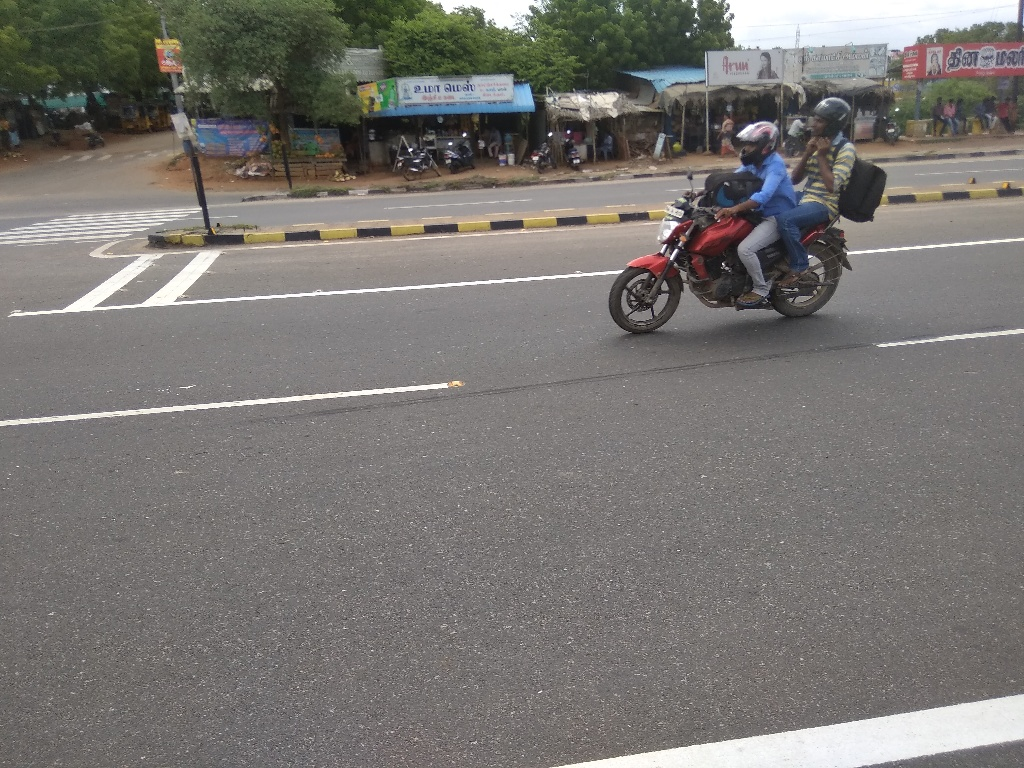biker: (595, 60, 906, 345)
helmet: (801, 79, 860, 149), (729, 105, 788, 175)
